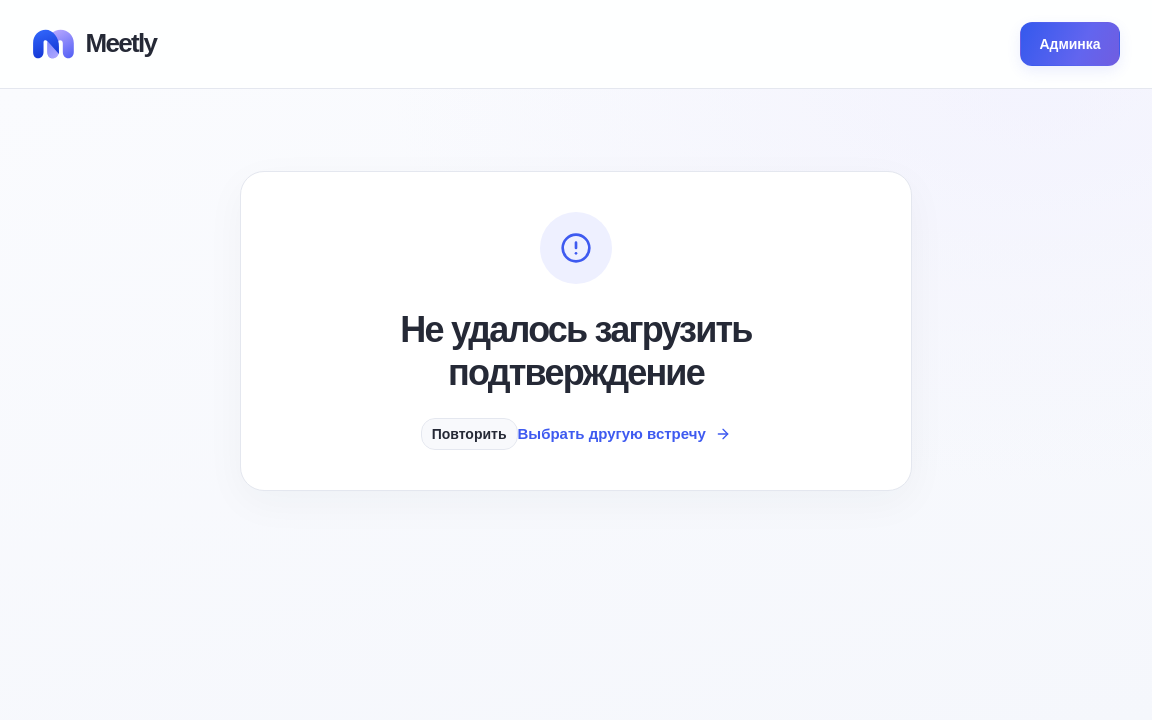
Test: confirmation network failure offers manual retry and loads success
Expected: the heading "Не удалось загрузить подтверждение" is shown, [400,309,752,393]
What coordinates should you click on to do the following:
click the button "Повторить"
I would click on:
 (469, 434)
Its box is [421,418,518,450].
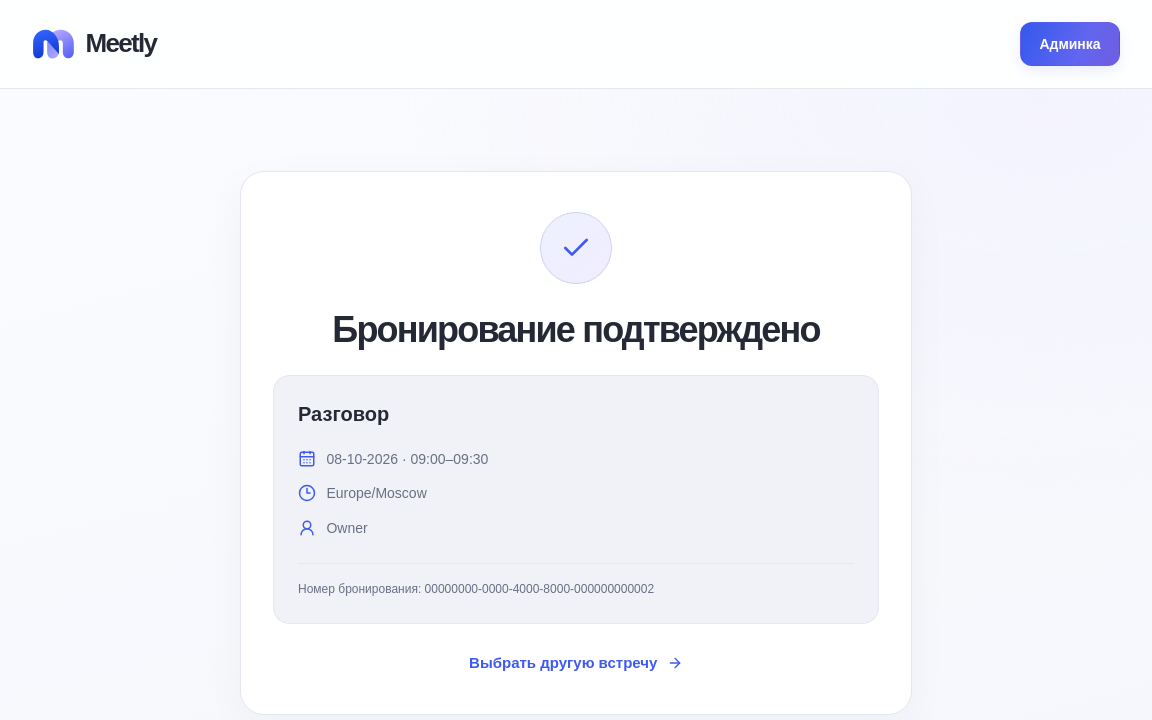
Expected: the button "Повторить" is gone
